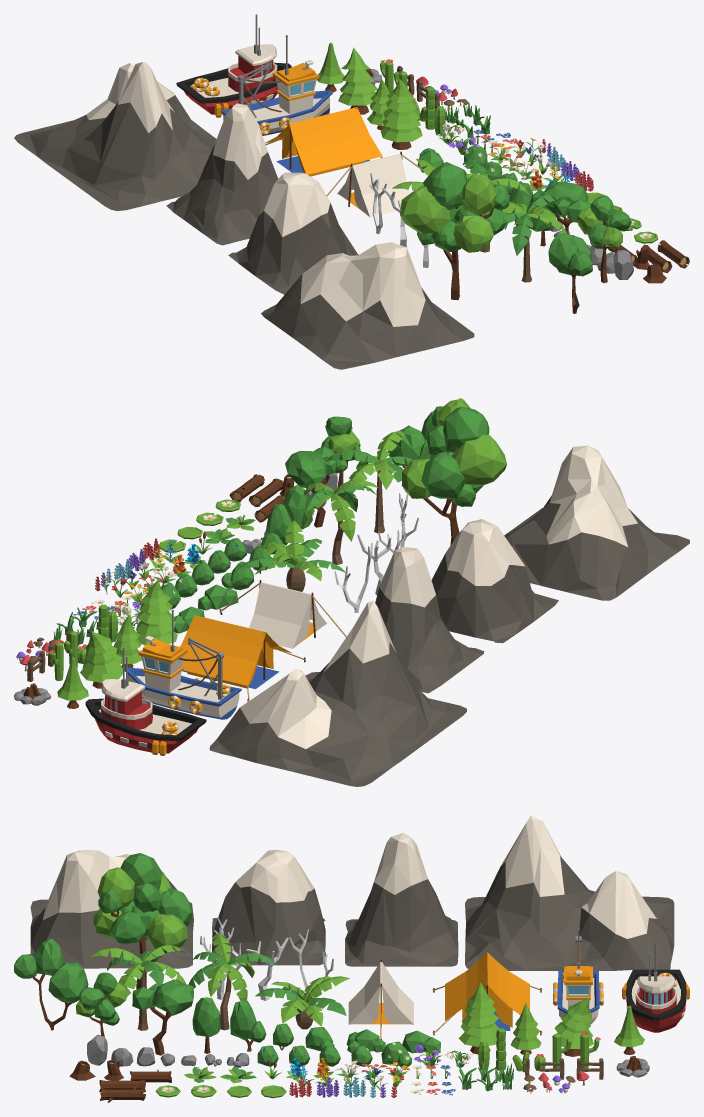
Rendered from nature-decor.glb.
3 renders of one model, top to bottom at view 1: azimuth 30°, elevation 25°; view 2: azimuth 150°, elevation 25°; view 3: azimuth 270°, elevation 25°, orthographic. The views are drawn at different scales.
Parts seen in each view (by area): view 1: mountain, mountain2, mountain1, mountain3, tree5, tent1, boat, ship, tent, tree6, PineTree, palmTree1 (+6 smaller); view 2: mountain, mountain2, mountain3, mountain1, tree5, boat, ship, tent1, tent, Cylinder.001, palmTree1, palmTree (+11 smaller); view 3: mountain, mountain1, mountain3, mountain2, tree5, tent1, ship, tree4, tent, palmTree, Cylinder.001, boat (+19 smaller).
Boxes of the visible parts, box(x1,y1,x2,y2) form: mountain: box(14, 62, 216, 210); mountain2: box(261, 242, 474, 369); mountain1: box(166, 103, 277, 245); mountain3: box(228, 172, 358, 294); tree5: box(400, 162, 509, 300); tent1: box(265, 107, 382, 176); boat: box(221, 35, 332, 135); ship: box(176, 14, 291, 117); tent: box(326, 151, 422, 217); tree6: box(576, 195, 631, 283); PineTree: box(380, 79, 422, 149); palmTree1: box(503, 194, 566, 282); mountain: box(209, 601, 466, 786); mountain2: box(504, 445, 689, 600); mountain3: box(431, 519, 558, 643); mountain1: box(375, 547, 484, 693); tree5: box(402, 398, 506, 545); boat: box(124, 609, 241, 719); ship: box(85, 647, 206, 755); tent1: box(180, 615, 305, 701); tent: box(219, 580, 346, 648); Cylinder.001: box(237, 520, 345, 591); palmTree1: box(325, 430, 412, 533); palmTree: box(301, 479, 378, 564); mountain: box(465, 815, 674, 970); mountain1: box(345, 832, 458, 966); mountain3: box(212, 849, 325, 965); mountain2: box(30, 850, 193, 968); tree5: box(93, 853, 193, 989); tent1: box(432, 952, 542, 1035); ship: box(622, 942, 689, 1032); tree4: box(14, 939, 88, 1030); tent: box(348, 959, 413, 1040); palmTree: box(188, 933, 276, 1030); Cylinder.001: box(255, 976, 349, 1029); boat: box(553, 928, 603, 1024).
Bounding box in the file's own units: 44.69 × 15.3 × 66.24.
